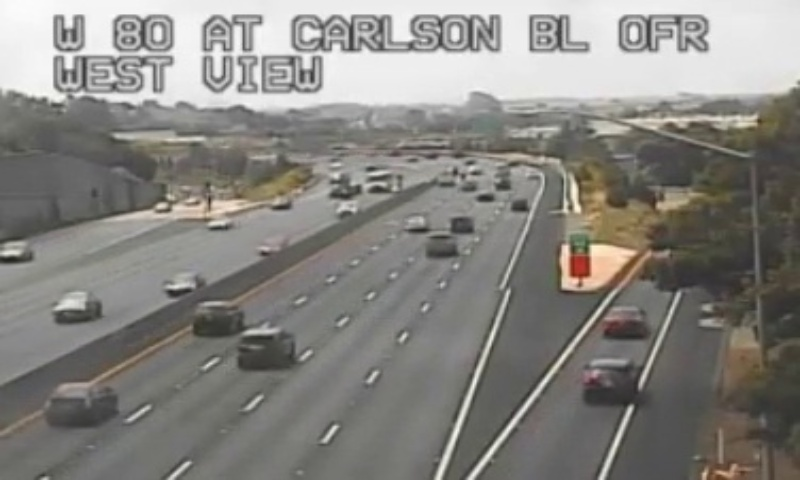car: (42, 382, 117, 422), (582, 357, 634, 406), (234, 328, 291, 368), (191, 301, 240, 335), (602, 306, 646, 339), (423, 232, 455, 256)
